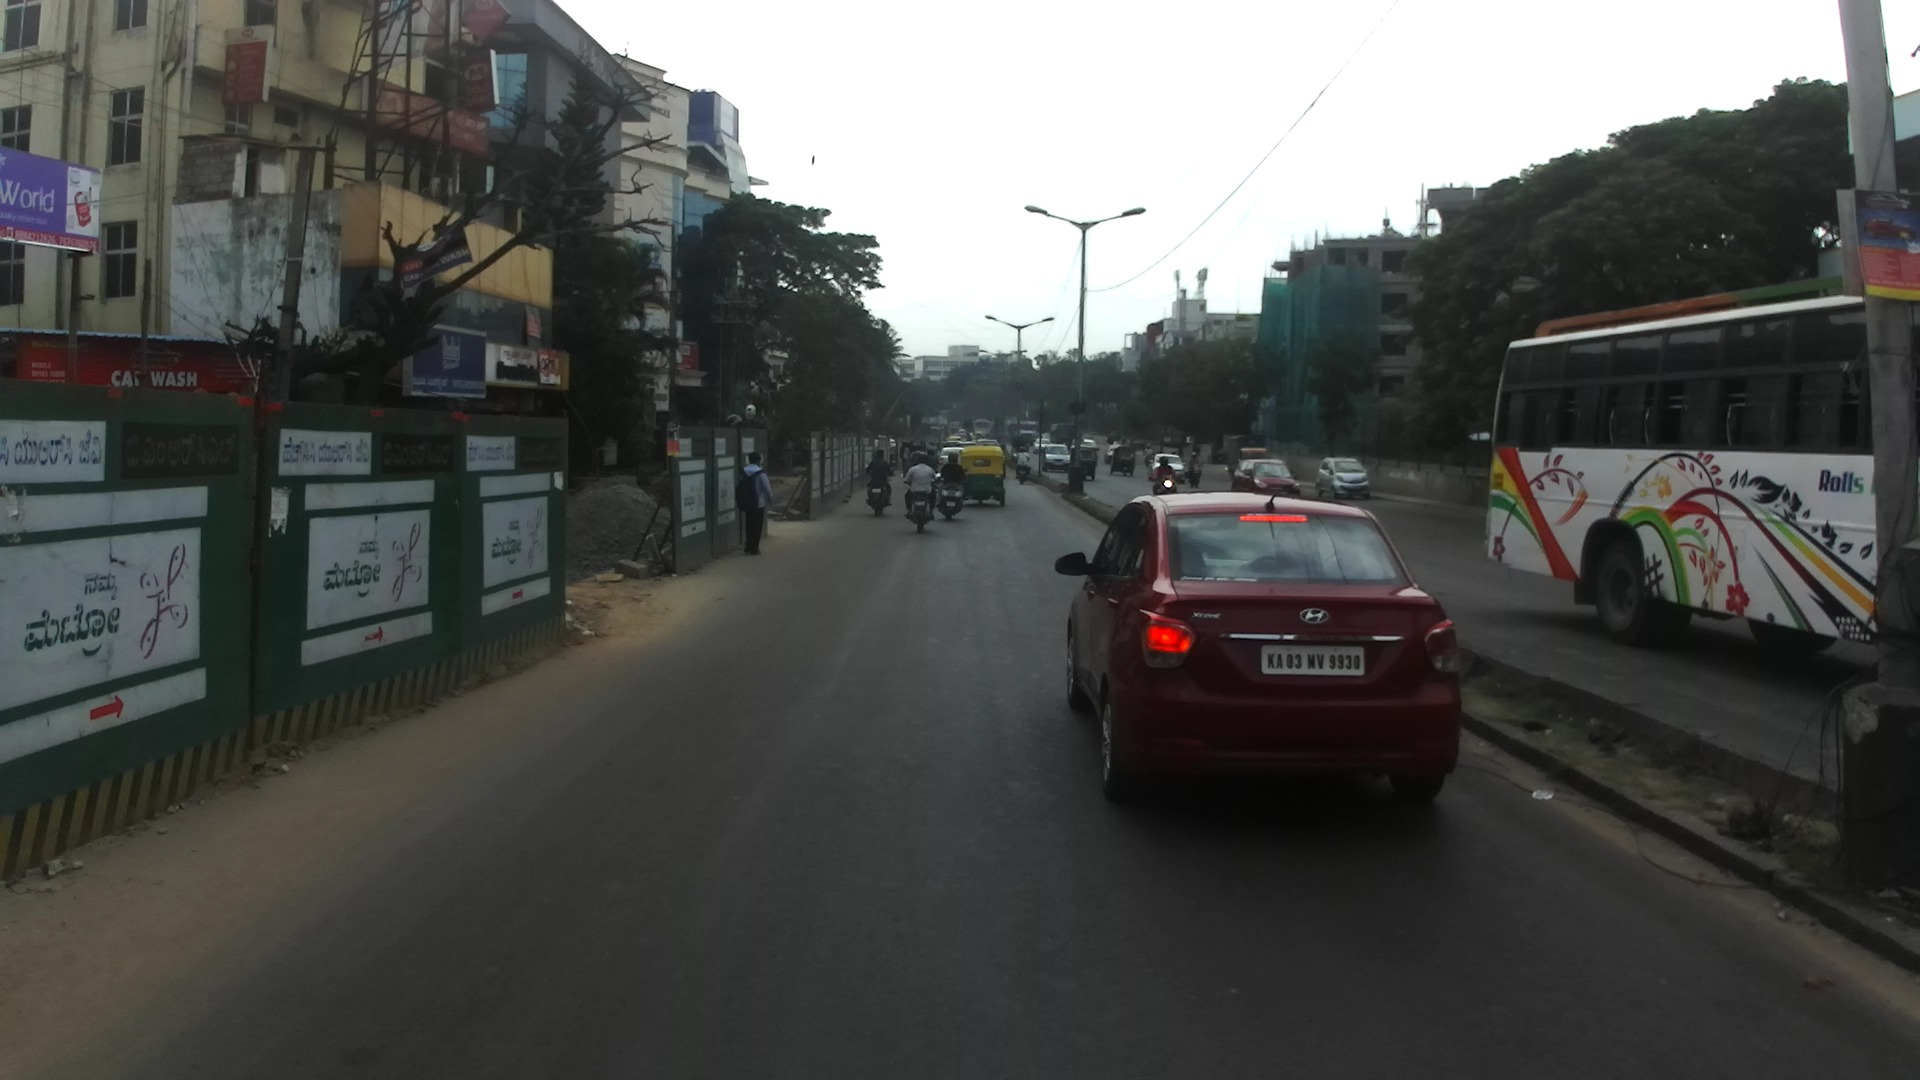autorickshaw: (959, 445, 1006, 506), (1070, 447, 1100, 482), (1110, 444, 1136, 476), (948, 435, 961, 441)
bus: (1483, 262, 1919, 653), (1050, 421, 1079, 448), (973, 418, 993, 438)
car: (1055, 492, 1468, 813), (1229, 458, 1303, 497), (1315, 456, 1371, 499), (1149, 453, 1186, 483), (1042, 443, 1072, 473), (937, 447, 963, 471), (1105, 444, 1122, 464), (1031, 438, 1051, 452), (1071, 438, 1096, 447), (1130, 440, 1145, 453), (976, 439, 1000, 446), (955, 433, 968, 442), (957, 442, 976, 448), (944, 441, 959, 448), (957, 428, 967, 437)
motorcycle: (901, 469, 941, 533), (865, 466, 896, 518), (936, 473, 966, 521), (1148, 476, 1181, 494), (1012, 453, 1031, 484), (1187, 464, 1201, 489), (1144, 453, 1154, 469)
person: (738, 450, 772, 555), (902, 442, 911, 478), (900, 441, 909, 460), (1192, 440, 1199, 455), (909, 440, 915, 454), (920, 441, 927, 452)
rider: (903, 453, 939, 520), (864, 449, 894, 508), (935, 452, 967, 509), (1153, 456, 1176, 494), (1016, 447, 1030, 479), (1188, 452, 1201, 483), (908, 444, 924, 469), (924, 448, 939, 474), (1143, 444, 1154, 458), (966, 433, 972, 443), (1171, 450, 1178, 454)
truck: (1225, 434, 1266, 482), (963, 419, 974, 432)
vehicle fallback: (1008, 419, 1040, 448), (922, 425, 946, 453), (1103, 430, 1128, 443), (890, 436, 899, 465), (1212, 450, 1228, 464), (948, 421, 961, 435), (975, 432, 991, 439), (1040, 432, 1051, 440)
